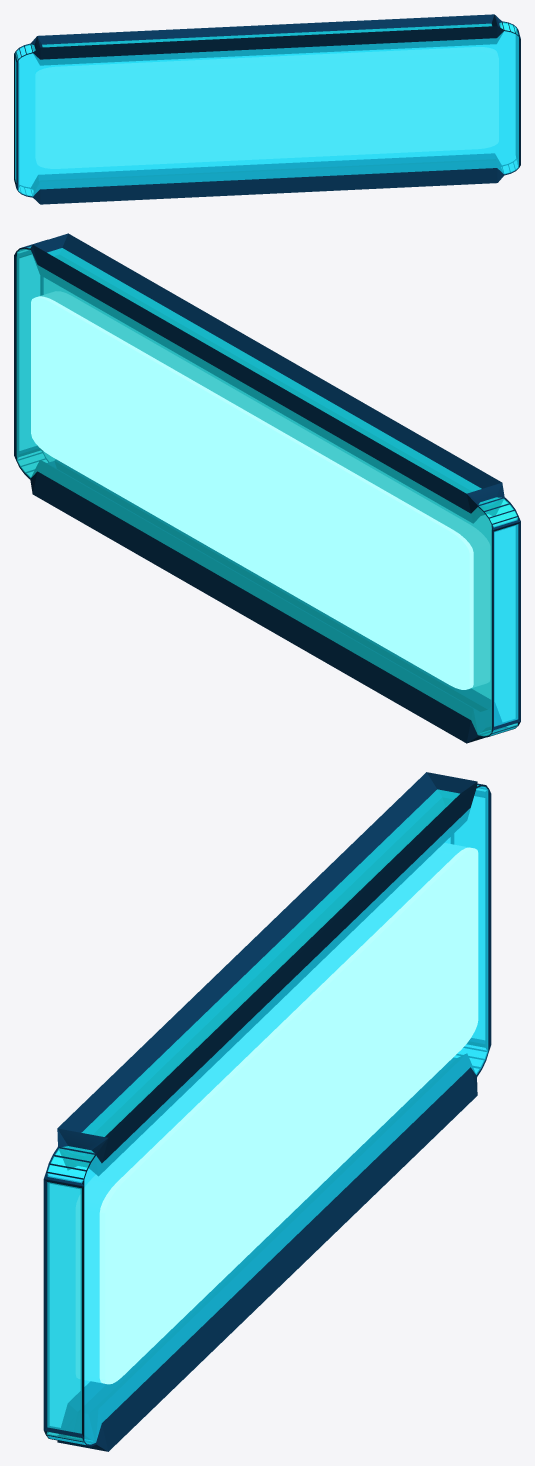
Rendered from hoverNote-1.fbx.
The picture shows the model from 3 angles, top to bottom: view 1: azimuth 30°, elevation 25°; view 2: azimuth 150°, elevation 25°; view 3: azimuth 270°, elevation 25°; orthographic projection. The views are drawn at different scales.
Parts seen in each view (by area): view 1: State1: Translucent Design.025, State1: Translucent Design.026, State1: Translucent Design.024, State1: Translucent Design.023; view 2: State1: Translucent Design.024, State1: Translucent Design.023, State1: Translucent Design.025, State1: Translucent Design.026; view 3: State1: Translucent Design.024, State1: Translucent Design.023, State1: Translucent Design.025, State1: Translucent Design.026.
Part boxes in pixels (x1,y1,x2,y2): State1: Translucent Design.025: (15, 22, 518, 196); State1: Translucent Design.026: (15, 22, 518, 196); State1: Translucent Design.024: (35, 47, 498, 168); State1: Translucent Design.023: (14, 14, 520, 204); State1: Translucent Design.024: (31, 291, 489, 689); State1: Translucent Design.023: (14, 233, 520, 743); State1: Translucent Design.025: (17, 246, 517, 735); State1: Translucent Design.026: (17, 247, 517, 735); State1: Translucent Design.024: (76, 843, 478, 1384); State1: Translucent Design.023: (43, 772, 491, 1451); State1: Translucent Design.025: (47, 785, 487, 1444); State1: Translucent Design.026: (47, 785, 487, 1444).
Bounding box in the file's own units: 1030 × 377 × 486.
